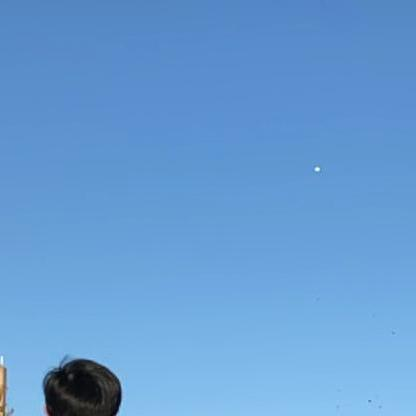golfball: (311, 161, 319, 171)
